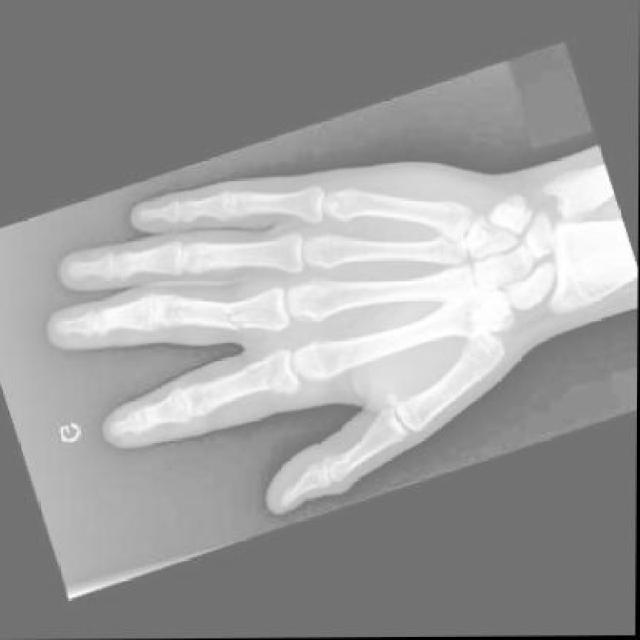bone: (237, 349, 288, 397), (212, 299, 248, 335)
